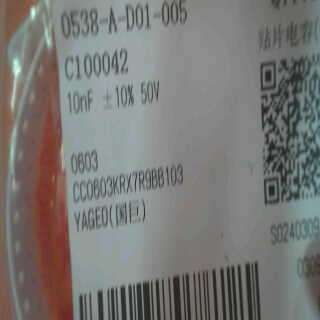10nF: (64, 86, 101, 117)
